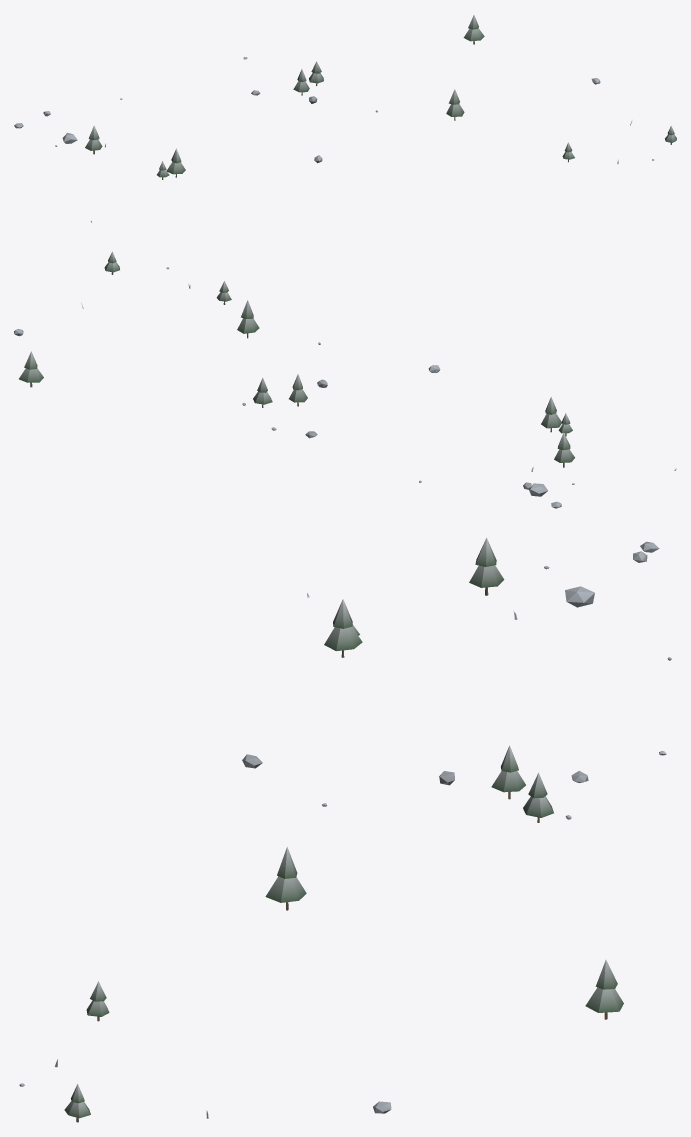
The model's file is frost_land_scatter_c20_10_lod1.glb.
3 views of the same model, one above another, from view 1: azimuth 30°, elevation 25°; view 2: azimuth 150°, elevation 25°; view 3: azimuth 270°, elevation 25° (orthographic). The views are drawn at different scales.
Parts seen in each view (by area): view 1: frost_land_scatter_c20_10_lod1; view 2: frost_land_scatter_c20_10_lod1; view 3: frost_land_scatter_c20_10_lod1.
Boxes of the visible parts, x1,y1,x2,y2 form: frost_land_scatter_c20_10_lod1: (14,15,676,222); frost_land_scatter_c20_10_lod1: (14,251,676,508); frost_land_scatter_c20_10_lod1: (19,538,671,1122).
Bounding box in the file's own units: 241 × 27.58 × 129.
